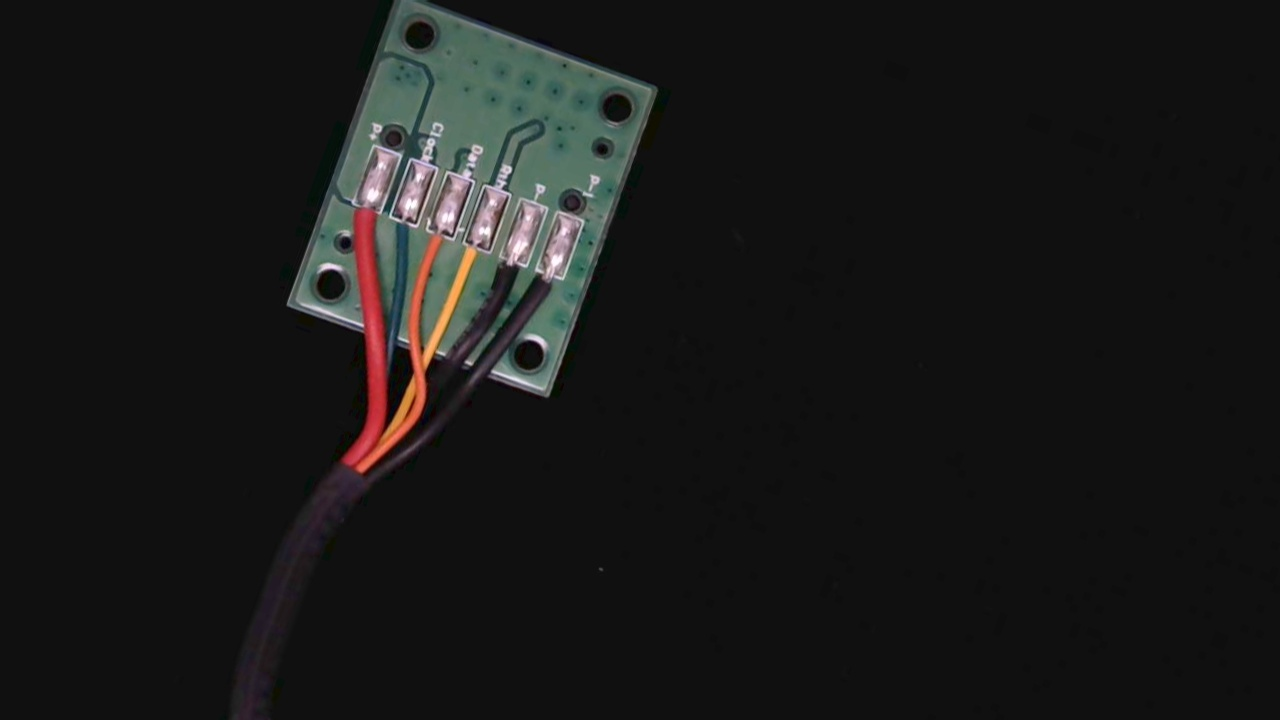Black: (476, 242, 530, 318)
Black1: (514, 255, 568, 327)
Green: (373, 203, 424, 268)
Orange: (407, 214, 458, 283)
Red: (334, 188, 388, 259)
Yellow: (441, 227, 494, 300)
